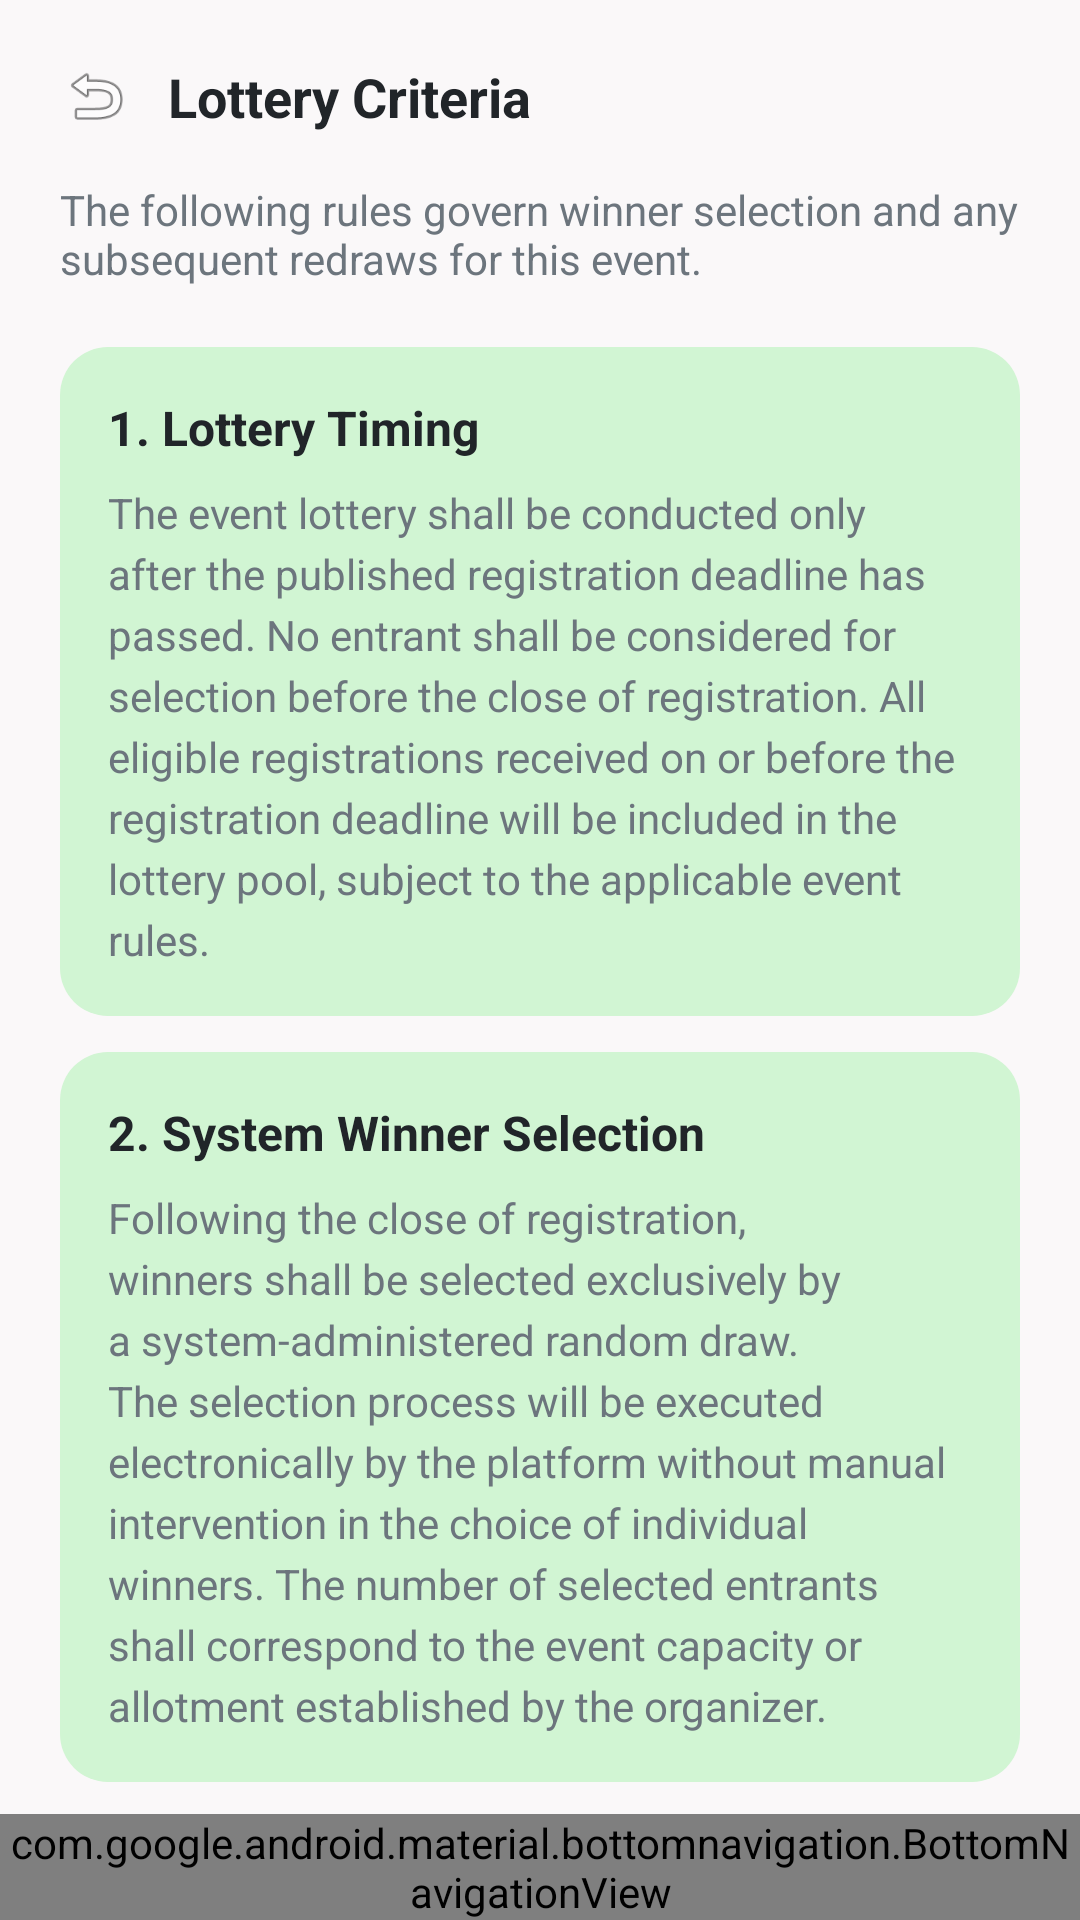

Where icons sit on this 1080px x 1920px app screen, as (x1, y1, x2, y2):
Back: (71, 73, 123, 120)
